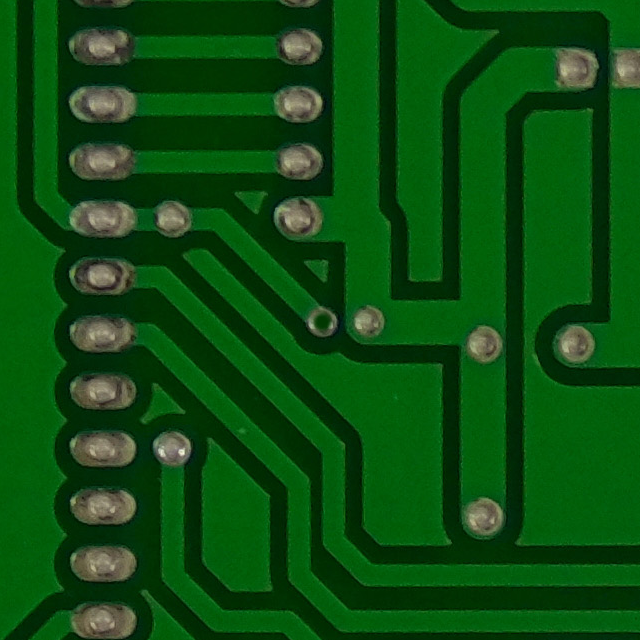missing_hole: (293, 294, 347, 347)
